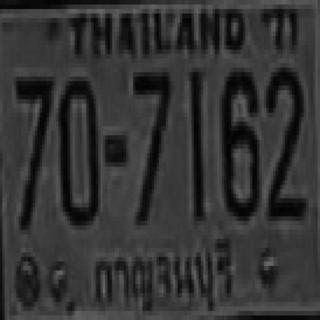N00: (58, 74, 98, 223)
N01: (189, 70, 201, 219)
N02: (265, 63, 302, 216)
N06: (220, 68, 257, 216)
N07: (132, 68, 169, 221), (14, 72, 51, 225)
P17: (93, 238, 238, 318)
